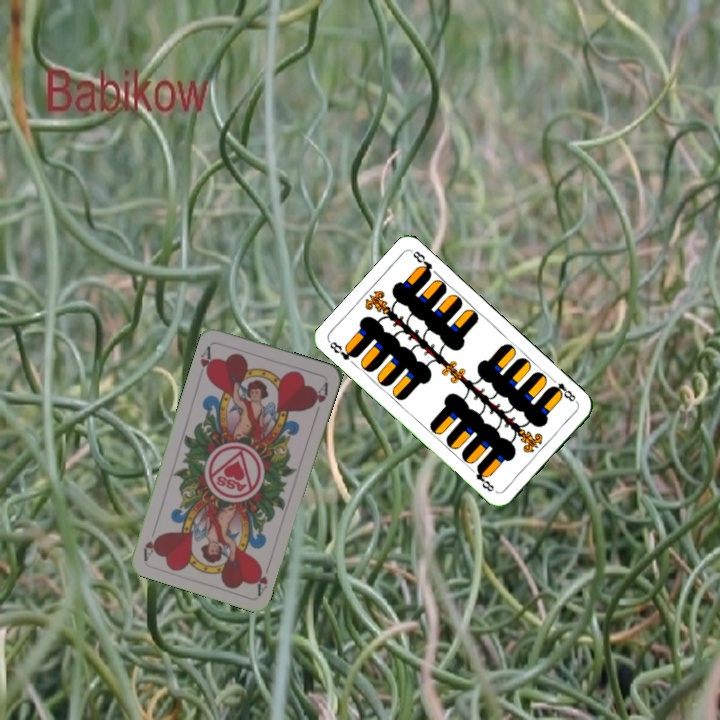E8: (546, 374, 580, 405), (325, 337, 360, 363)
HA: (251, 558, 273, 598), (196, 342, 217, 382)
